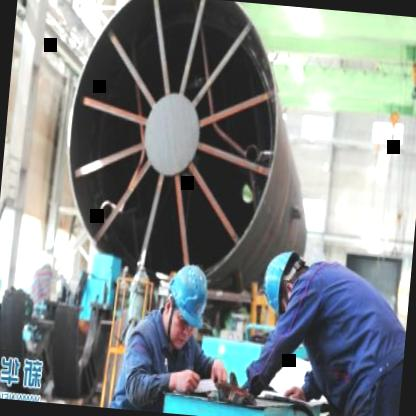helmet: (161, 260, 214, 350), (256, 238, 314, 317)
